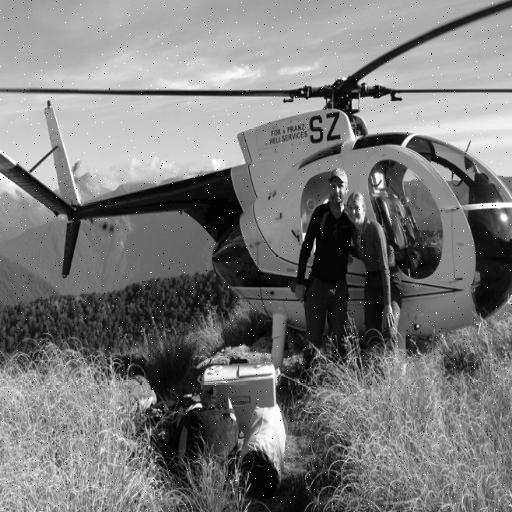helicopter: (1, 4, 512, 410)
